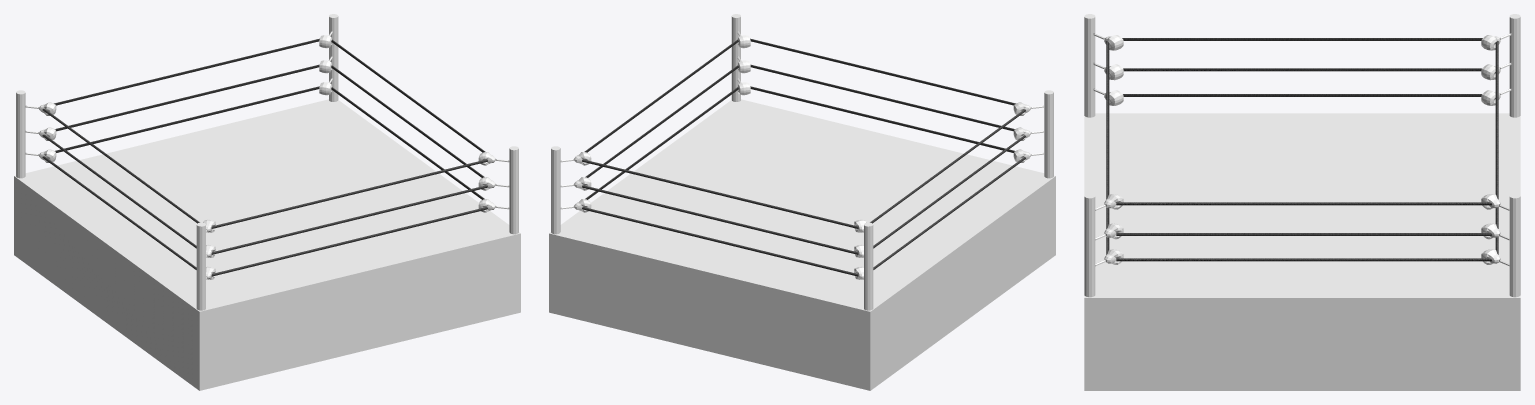
File: ring-standard.glb
3 renders of one model, left to right at view 1: azimuth 30°, elevation 25°; view 2: azimuth 150°, elevation 25°; view 3: azimuth 270°, elevation 25°, orthographic. The views are drawn at different scales.
Parts seen in each view (by area): view 1: canvas, apron-south, apron-west, rope-south-top, rope-south-middle, rope-south-bottom, rope-north-top, ring-post-sw, ring-post-nw, ring-post-se, rope-north-middle, rope-north-bottom (+7 smaller); view 2: canvas, apron-north, apron-west, rope-north-top, rope-north-middle, rope-north-bottom, rope-south-top, ring-post-nw, ring-post-sw, ring-post-ne, rope-south-middle, rope-south-bottom (+7 smaller); view 3: canvas, apron-east, rope-east-top, rope-east-bottom, rope-west-middle, ring-post-ne, ring-post-se, ring-post-nw, ring-post-sw, rope-east-middle, rope-west-top, rope-west-bottom (+2 smaller).
Part boxes in pixels (x1,y1,x2,y2): canvas: (14,99,520,311); apron-south: (199,233,520,390); apron-west: (14,176,199,390); rope-south-top: (211,159,487,228); rope-south-middle: (211,185,487,254); rope-south-bottom: (211,207,487,276); rope-north-top: (54,38,319,105); ring-post-sw: (196,222,205,310); ring-post-nw: (16,90,25,178); ring-post-se: (509,146,518,234); rope-north-middle: (55,64,319,131); rope-north-bottom: (55,86,319,152); canvas: (549,99,1055,311); apron-north: (549,233,870,390); apron-west: (870,176,1055,390); rope-north-top: (582,159,858,228); rope-north-middle: (582,185,858,254); rope-north-bottom: (582,207,858,276); rope-south-top: (750,38,1015,105); ring-post-nw: (864,222,873,310); ring-post-sw: (1044,90,1053,178); ring-post-ne: (551,146,560,234); rope-south-middle: (750,64,1014,131); rope-south-bottom: (750,86,1014,152); canvas: (1084,113,1520,297); apron-east: (1084,298,1520,390); rope-east-top: (1116,202,1491,205); rope-east-bottom: (1116,258,1491,261); rope-west-middle: (1123,68,1481,71); ring-post-ne: (1509,193,1520,297); ring-post-se: (1084,193,1095,297); ring-post-nw: (1509,14,1520,117); ring-post-sw: (1084,14,1095,117); rope-east-middle: (1116,233,1491,235); rope-west-top: (1122,38,1482,40); rope-west-bottom: (1123,94,1481,96).
Size of the model in its own units: 6.79 by 3.3 by 6.79.
10 materials, 3 textured.
